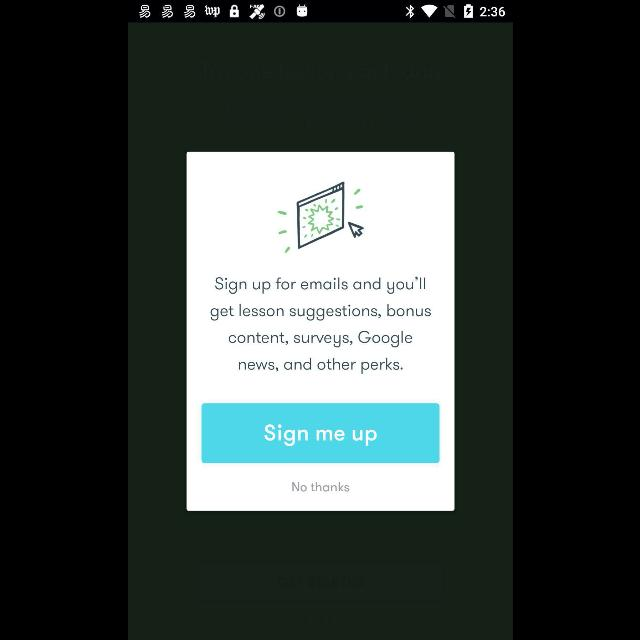image: (276, 181, 364, 253)
panel: (186, 152, 454, 510)
text: (210, 276, 430, 374), (292, 482, 348, 492)
textbutton: (201, 403, 439, 463)
uppertaskbar: (128, 1, 512, 23)
